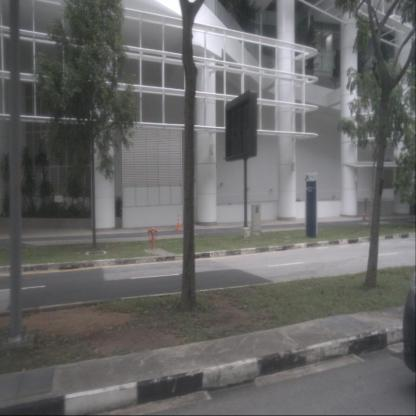cone: (175, 214, 182, 232), (362, 209, 366, 221)
